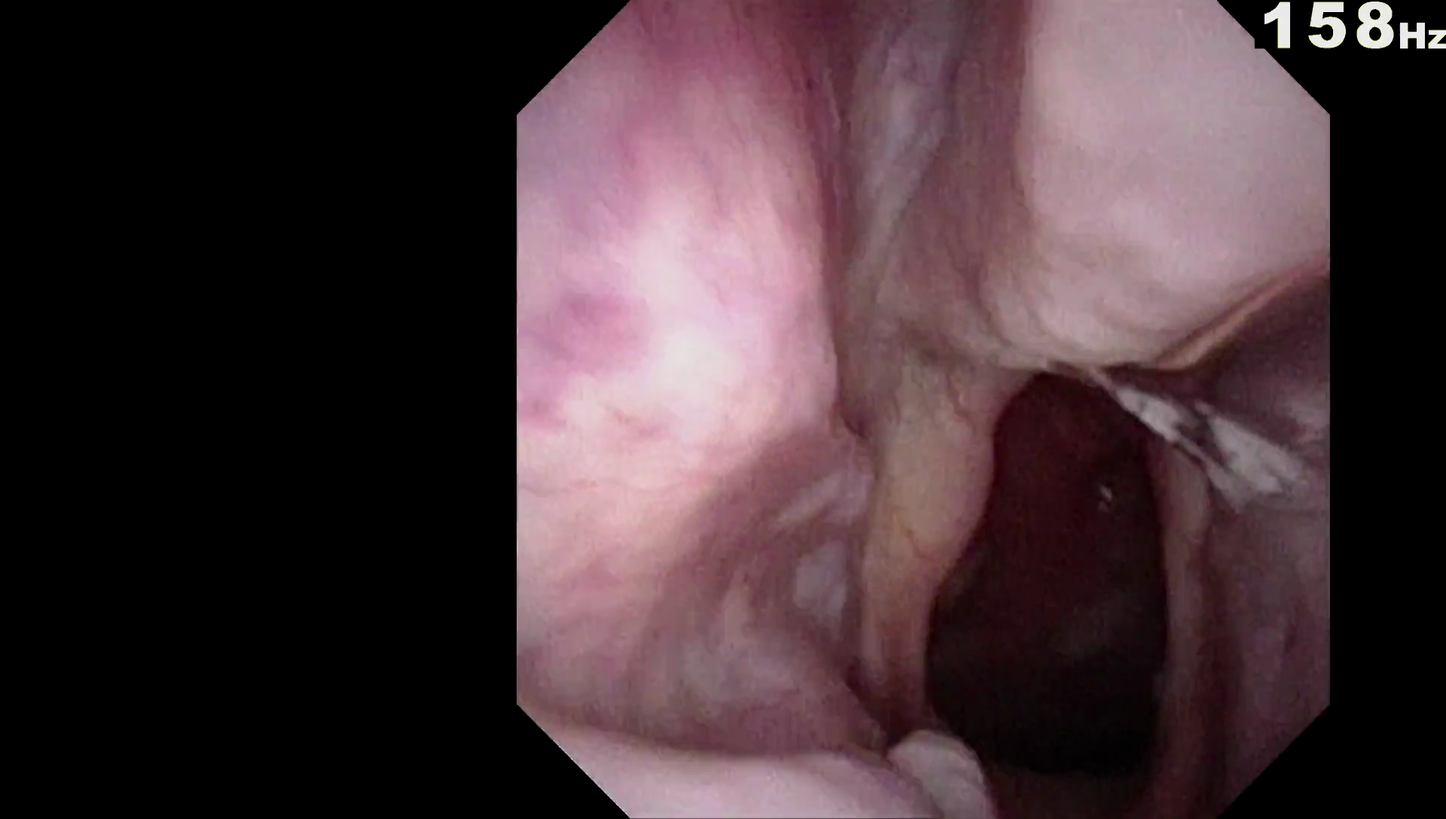close_wall: (536, 124, 870, 672)
next: (907, 519, 1214, 811)
